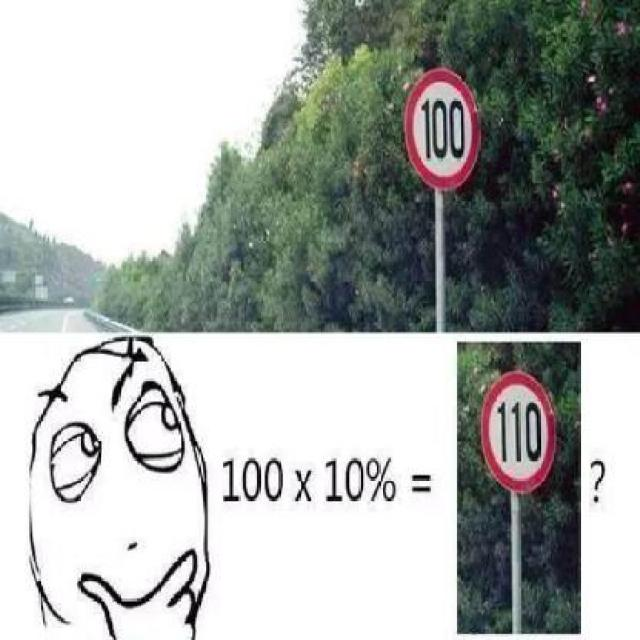forb_speed_over_100: (403, 69, 479, 189)
